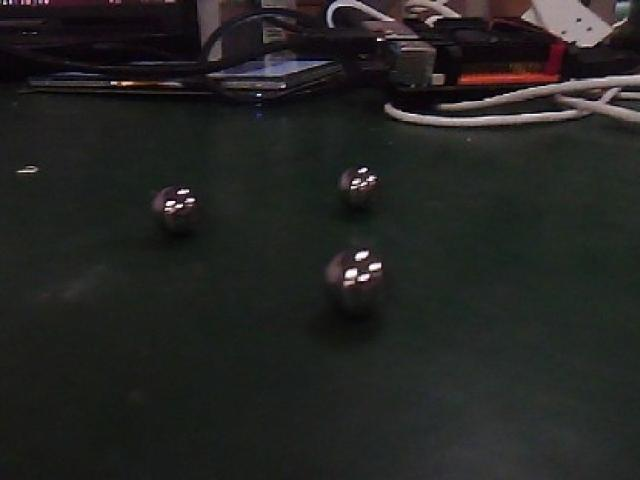steel-ball: (112, 153, 225, 250), (303, 242, 403, 323), (317, 134, 395, 218)
